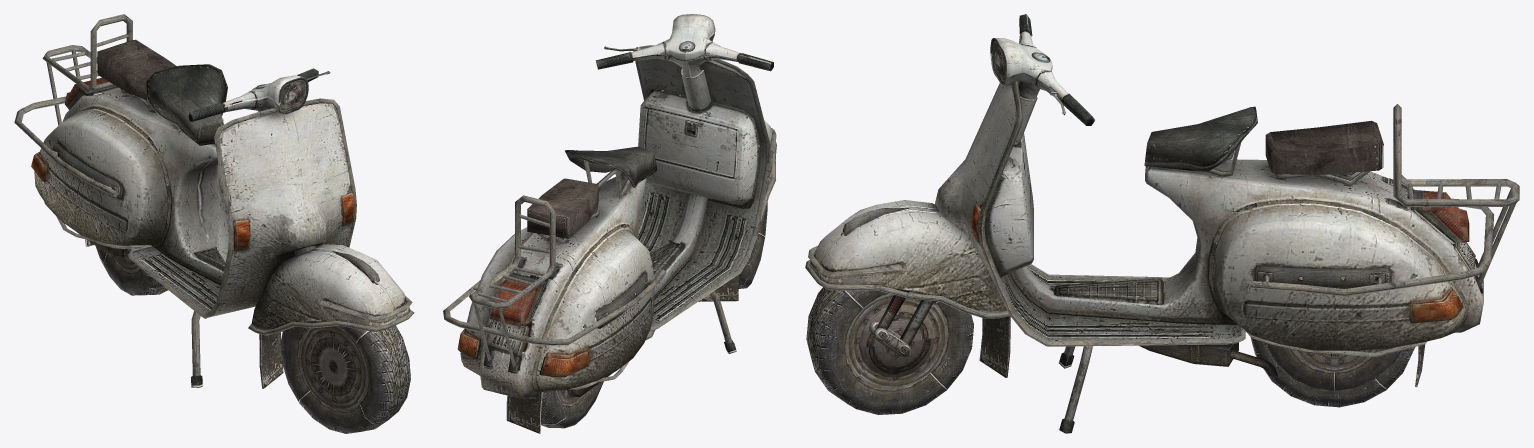
The model's file is moto_vespa_white.glb.
3 views of the same model, side by side, from view 1: azimuth 30°, elevation 25°; view 2: azimuth 150°, elevation 25°; view 3: azimuth 270°, elevation 25° (orthographic). The views are drawn at different scales.
Visible parts, largest first — view 1: Object_3; view 2: Object_3; view 3: Object_3.
Part boxes in pixels (x1=…): Object_3: x1=14, y1=14, x2=414, y2=433; Object_3: x1=443, y1=14, x2=776, y2=433; Object_3: x1=805, y1=14, x2=1519, y2=433.
Size of the model in its own units: 0.517 by 0.9535 by 1.7.
1 material, 1 textured.
